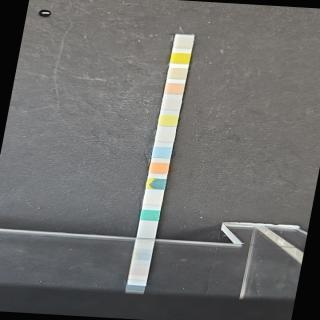mark: (151, 146, 172, 160), (145, 178, 167, 190), (168, 67, 188, 80), (148, 162, 168, 175), (164, 83, 184, 95), (155, 131, 175, 143), (143, 194, 163, 206), (162, 99, 181, 111), (141, 210, 160, 222), (158, 115, 178, 126), (171, 53, 190, 64), (174, 38, 193, 48)
